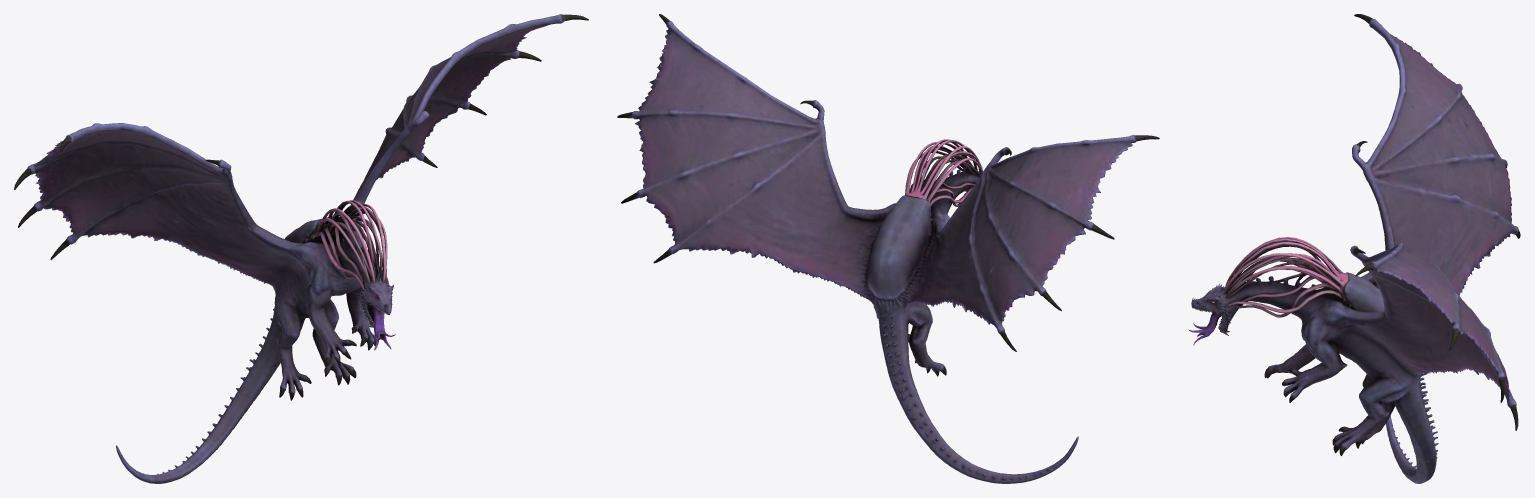
The model's file is MZ4250 - Elder Brain Dragon.glb.
3 views of the same model, side by side, from view 1: azimuth 30°, elevation 25°; view 2: azimuth 150°, elevation 25°; view 3: azimuth 270°, elevation 25° (orthographic). The views are drawn at different scales.
Parts seen in each view (by area): view 1: Head Base Sphere.001; view 2: Head Base Sphere.001; view 3: Head Base Sphere.001.
Part boxes in pixels (<box>): Head Base Sphere.001: <box>14,14,588,483</box>; Head Base Sphere.001: <box>617,14,1159,483</box>; Head Base Sphere.001: <box>1188,14,1520,483</box>.
Bounding box in the file's own units: 466 × 326 × 249.
Materials: 1 (1 with a texture image).
